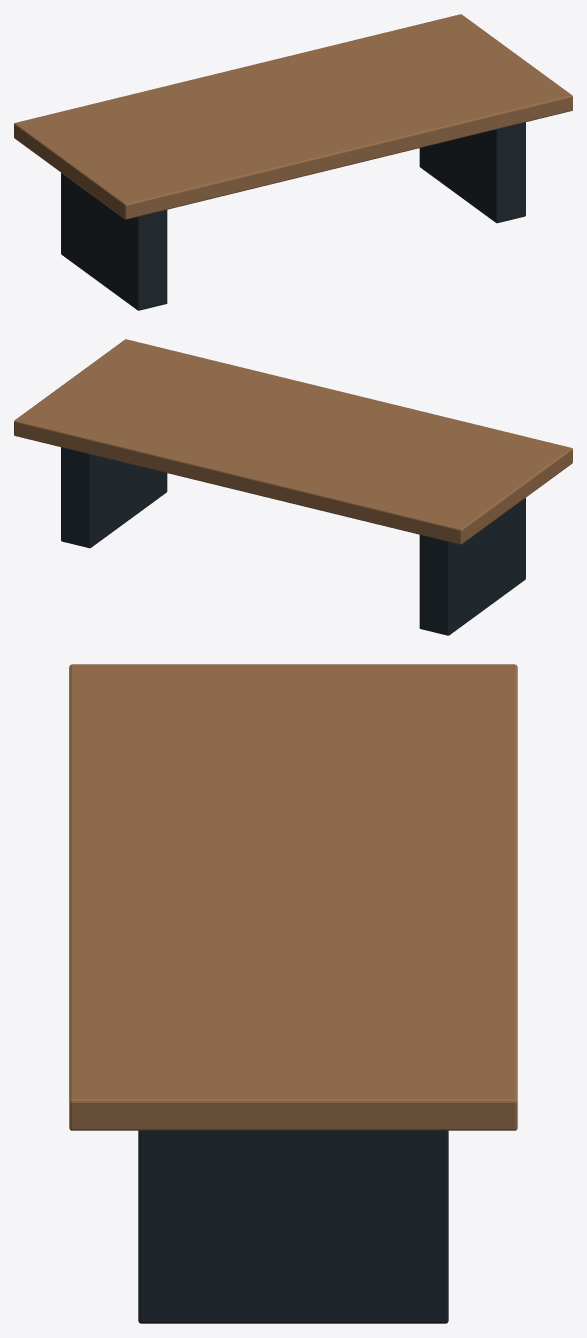
File: CC_S16_P2_Expansion_Market_PlanningTable_LOD0.fbx
3 views of the same model, one above another, from view 1: azimuth 30°, elevation 25°; view 2: azimuth 150°, elevation 25°; view 3: azimuth 270°, elevation 25° (orthographic). The views are drawn at different scales.
Visible parts, largest first — view 1: CC_S16_P2_Expansion_Market_PlanningTable_LOD0_Top, CC_S16_P2_Expansion_Market_PlanningTable_LOD0_Leg, CC_S16_P2_Expansion_Market_PlanningTable_LOD0_Leg.001; view 2: CC_S16_P2_Expansion_Market_PlanningTable_LOD0_Top, CC_S16_P2_Expansion_Market_PlanningTable_LOD0_Leg, CC_S16_P2_Expansion_Market_PlanningTable_LOD0_Leg.001; view 3: CC_S16_P2_Expansion_Market_PlanningTable_LOD0_Top, CC_S16_P2_Expansion_Market_PlanningTable_LOD0_Leg.001.
Part boxes in pixels (box(x1,y1,x2,y2)): CC_S16_P2_Expansion_Market_PlanningTable_LOD0_Top: box(14, 14, 572, 219); CC_S16_P2_Expansion_Market_PlanningTable_LOD0_Leg: box(61, 173, 167, 310); CC_S16_P2_Expansion_Market_PlanningTable_LOD0_Leg.001: box(419, 122, 525, 223); CC_S16_P2_Expansion_Market_PlanningTable_LOD0_Top: box(14, 339, 572, 544); CC_S16_P2_Expansion_Market_PlanningTable_LOD0_Leg: box(419, 498, 525, 635); CC_S16_P2_Expansion_Market_PlanningTable_LOD0_Leg.001: box(61, 447, 167, 548); CC_S16_P2_Expansion_Market_PlanningTable_LOD0_Top: box(69, 664, 517, 1130); CC_S16_P2_Expansion_Market_PlanningTable_LOD0_Leg.001: box(138, 1130, 448, 1323).
Size of what is drawn, in the model's own units: 3 by 0.81 by 1.3.
